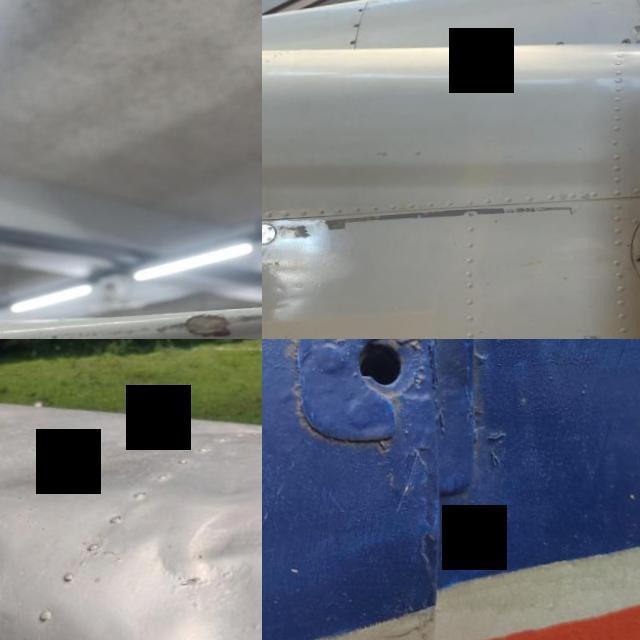Crack: (0, 303, 262, 339)
Dent: (85, 495, 262, 640)
Missing_Fastener: (307, 339, 434, 429), (354, 12, 362, 16)
